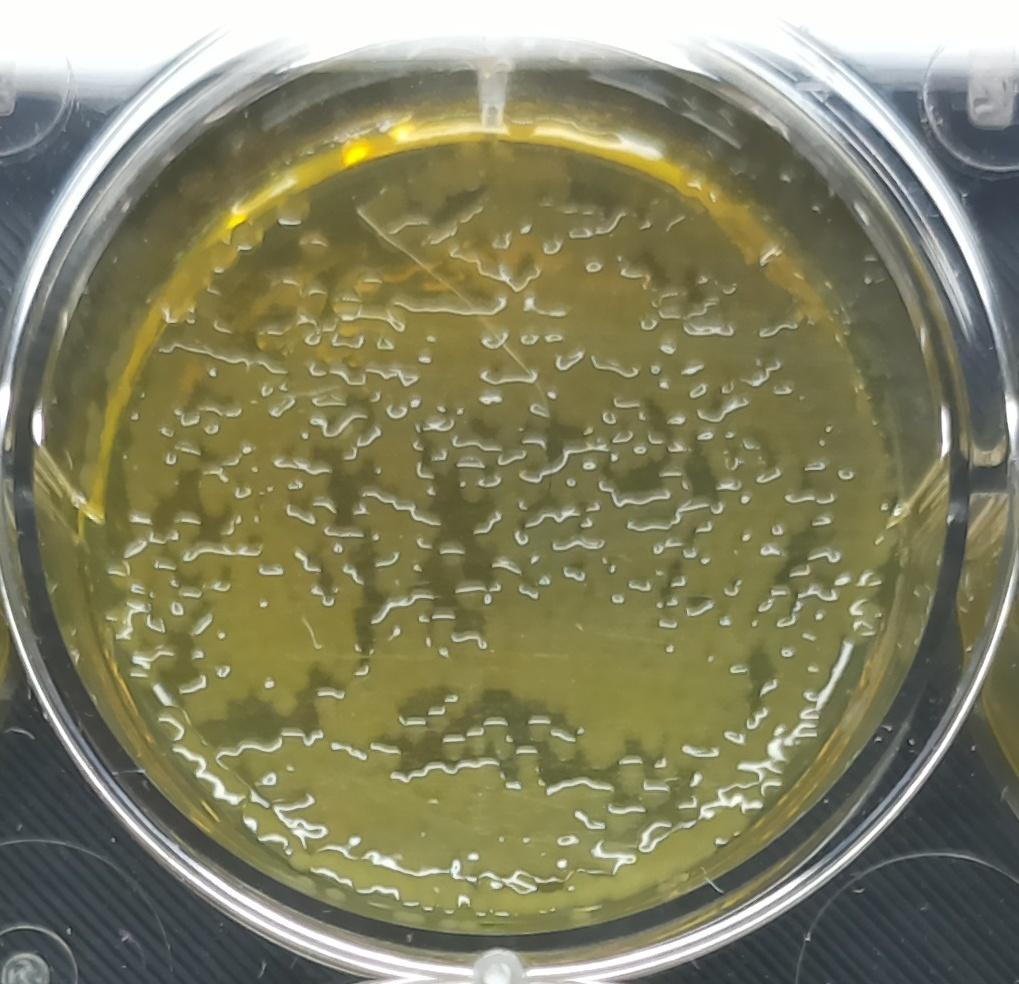vangil: (342, 486, 439, 600), (582, 392, 666, 478)
